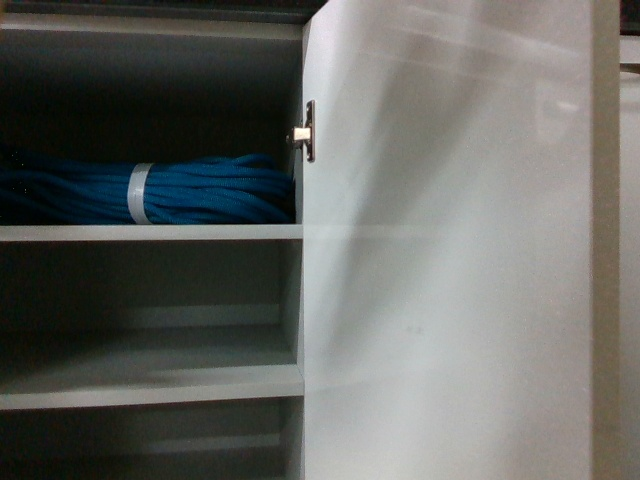rope: (8, 144, 298, 227)
